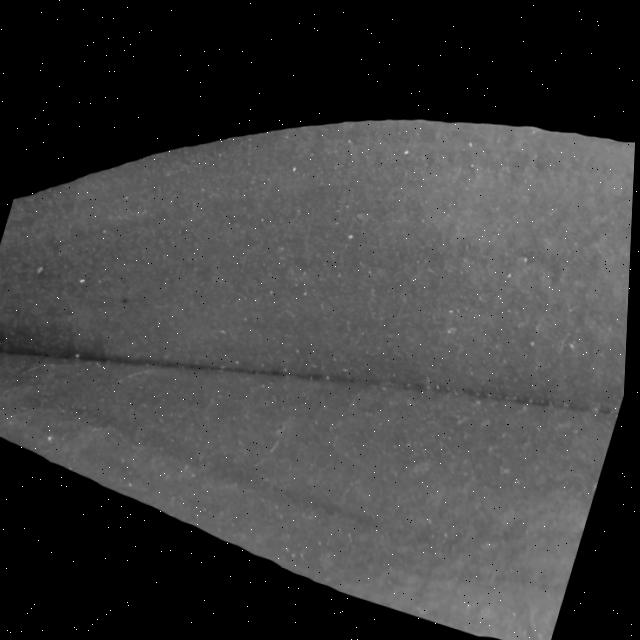mite: (27, 251, 144, 313), (31, 257, 94, 293), (292, 277, 320, 301), (115, 287, 140, 311), (395, 138, 419, 159), (73, 269, 95, 291), (284, 155, 306, 176), (42, 428, 64, 448), (34, 262, 49, 277), (0, 336, 9, 359), (120, 293, 135, 306), (288, 159, 302, 172), (503, 263, 517, 276), (77, 273, 90, 286), (345, 226, 358, 239), (300, 284, 314, 296), (400, 142, 414, 154), (47, 431, 59, 444), (258, 212, 270, 224)
spots: (0, 3, 636, 640)
